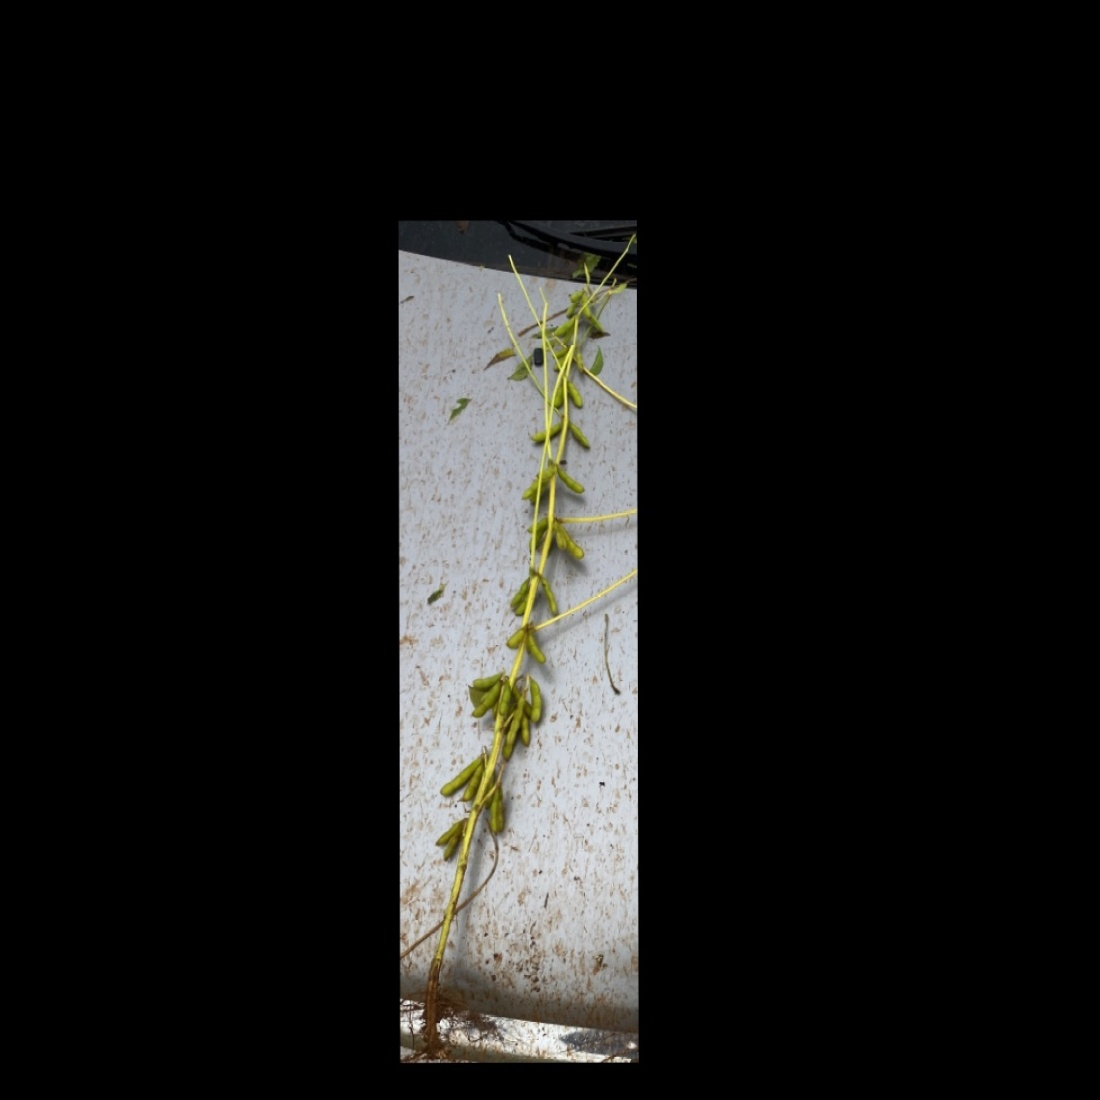pod: (555, 464, 587, 498), (527, 419, 566, 445), (539, 575, 560, 618), (565, 416, 590, 452), (567, 377, 590, 412), (529, 682, 548, 722), (525, 628, 545, 665), (495, 682, 515, 718), (511, 592, 536, 618)
soy: (415, 263, 629, 977)
